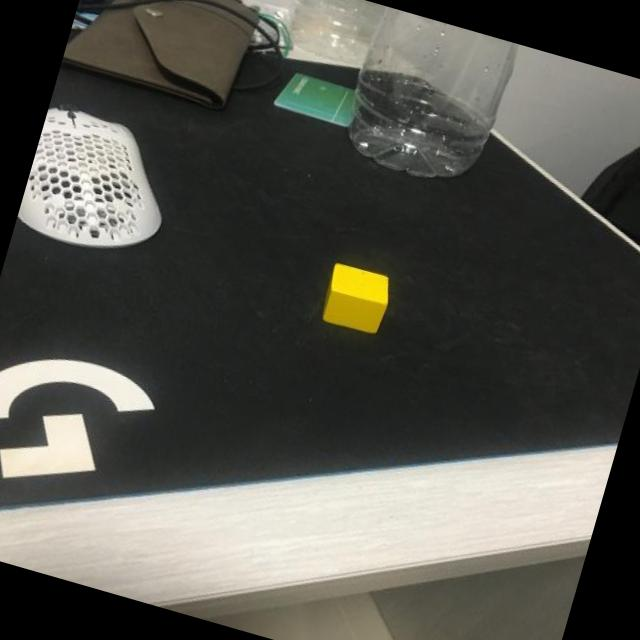yellow: (316, 260, 395, 338)
